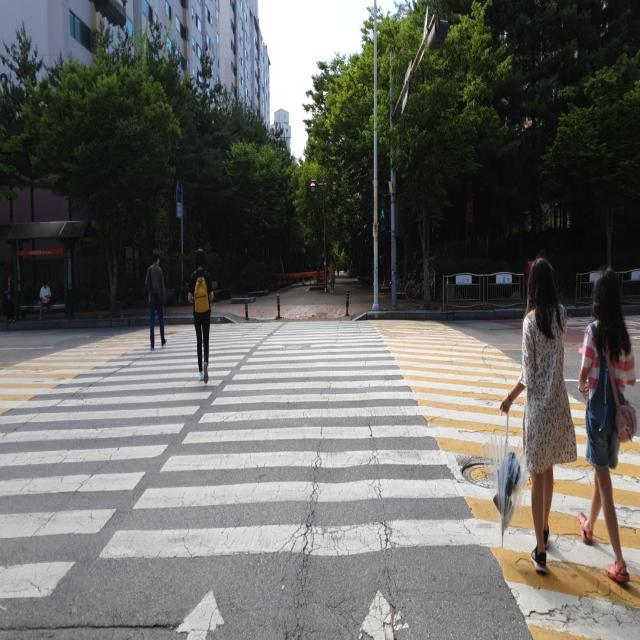초록불: (378, 194, 386, 234)
횡단보도: (0, 317, 490, 639)
